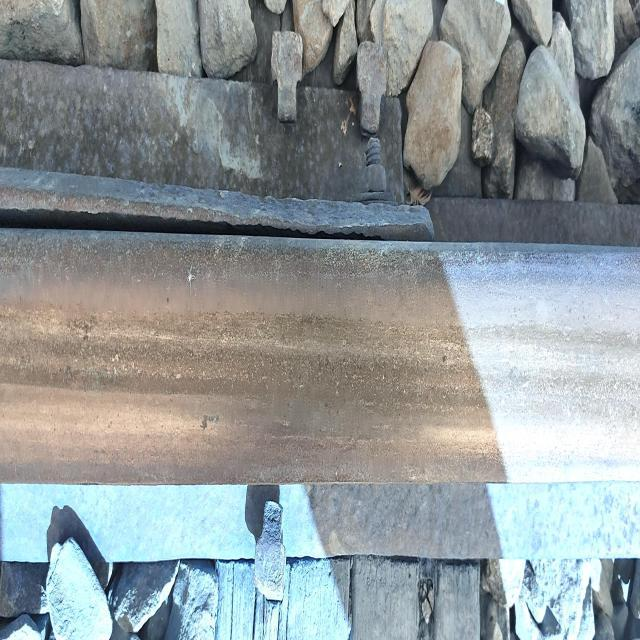head_checks_low: (66, 312, 98, 347), (197, 404, 222, 432)
